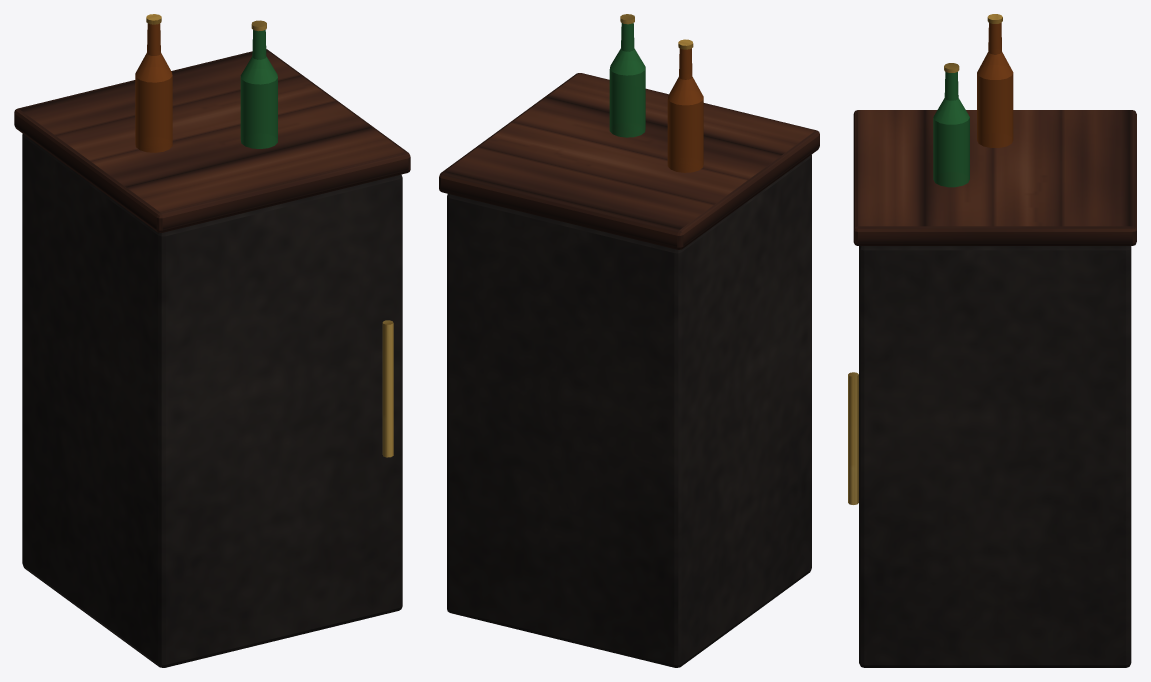
File: minibar.glb
3 views of the same model, side by side, from view 1: azimuth 30°, elevation 25°; view 2: azimuth 150°, elevation 25°; view 3: azimuth 270°, elevation 25° (orthographic). The views are drawn at different scales.
Parts seen in each view (by area): view 1: minibar; view 2: minibar; view 3: minibar.
Boxes of the visible parts, x1,y1,x2,y2 form: minibar: (14, 14, 410, 667); minibar: (439, 14, 819, 667); minibar: (848, 14, 1136, 667).
Bounding box in the file's own units: 0.52 × 1.15 × 0.53.
Materials: 10 (4 with a texture image).
